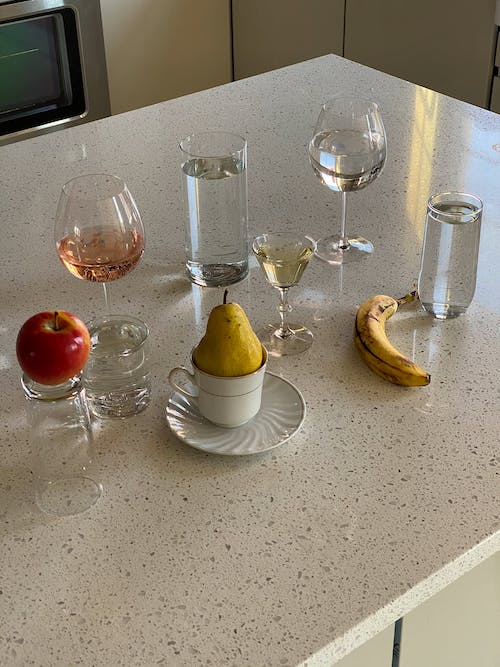alcohol: (52, 171, 148, 313)
